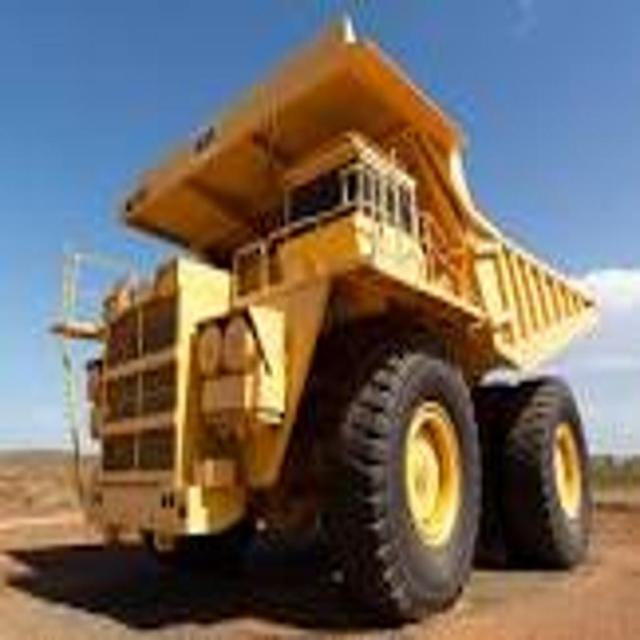dump_truck: (47, 14, 599, 628)
